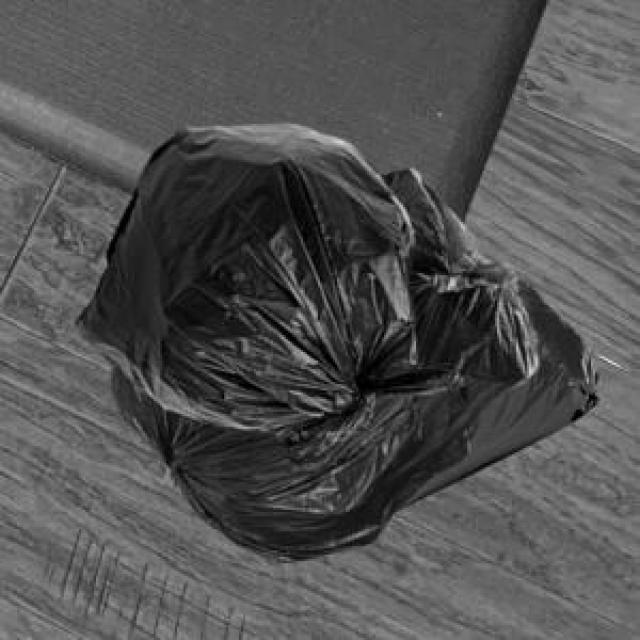miscellaneous trash: (107, 164, 533, 557), (73, 120, 461, 465), (399, 277, 595, 501)
